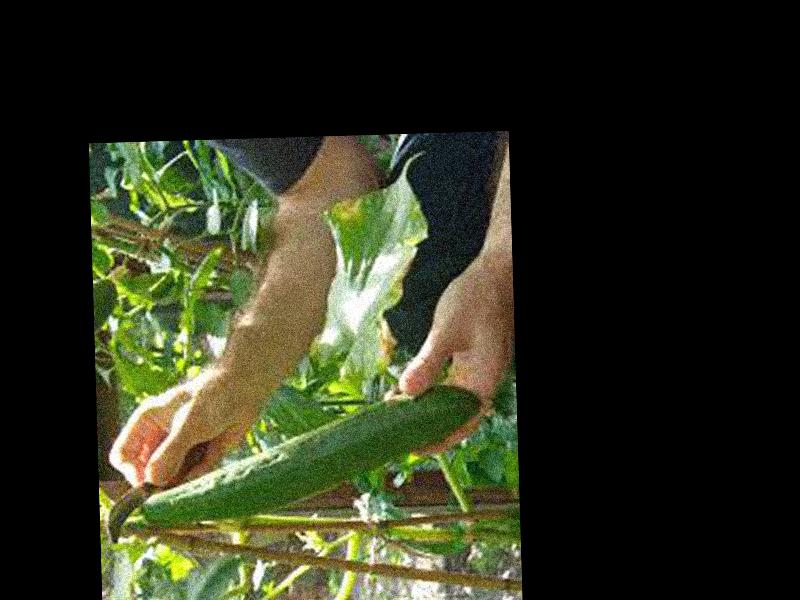Cucumber: (139, 385, 483, 527)
